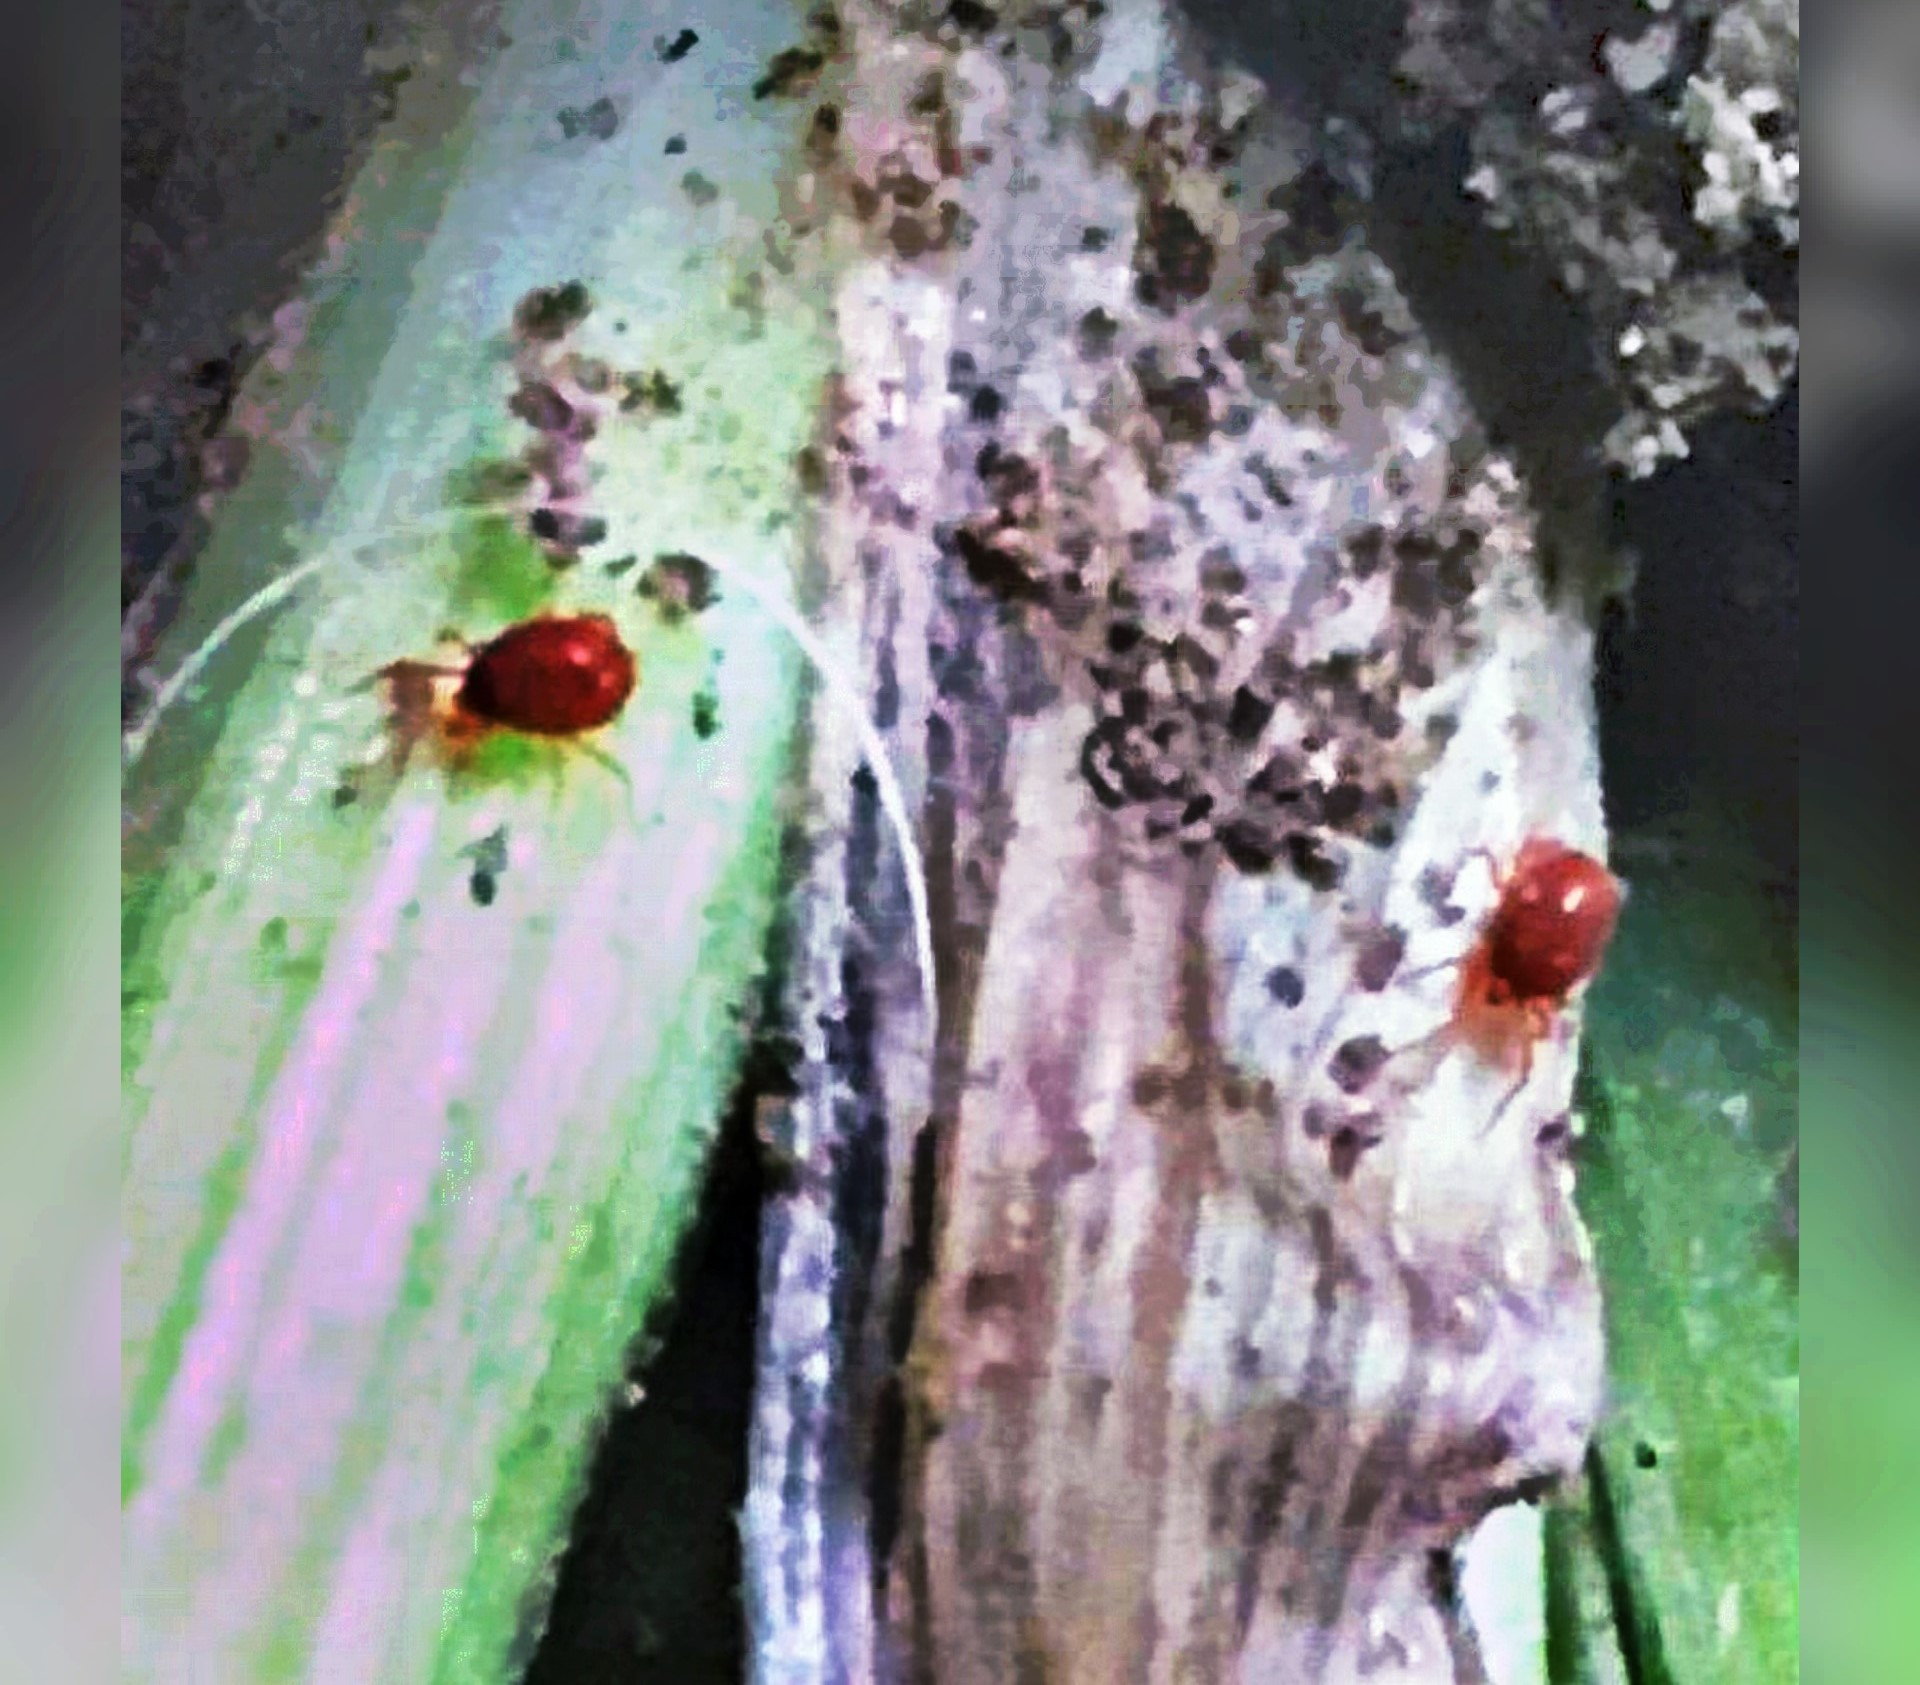Wheat Red Spider: (1406, 807, 1633, 1138)
